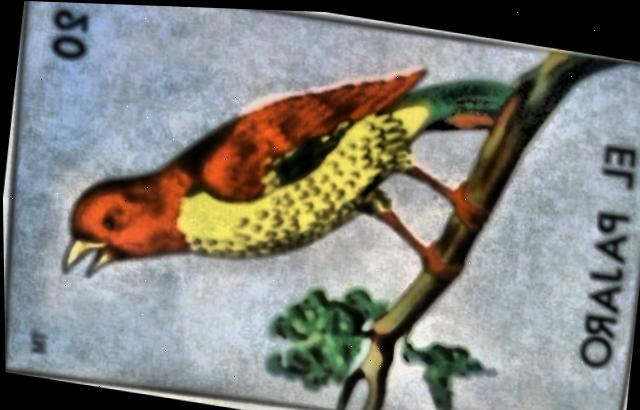El Pajaro: (4, 1, 640, 410)
